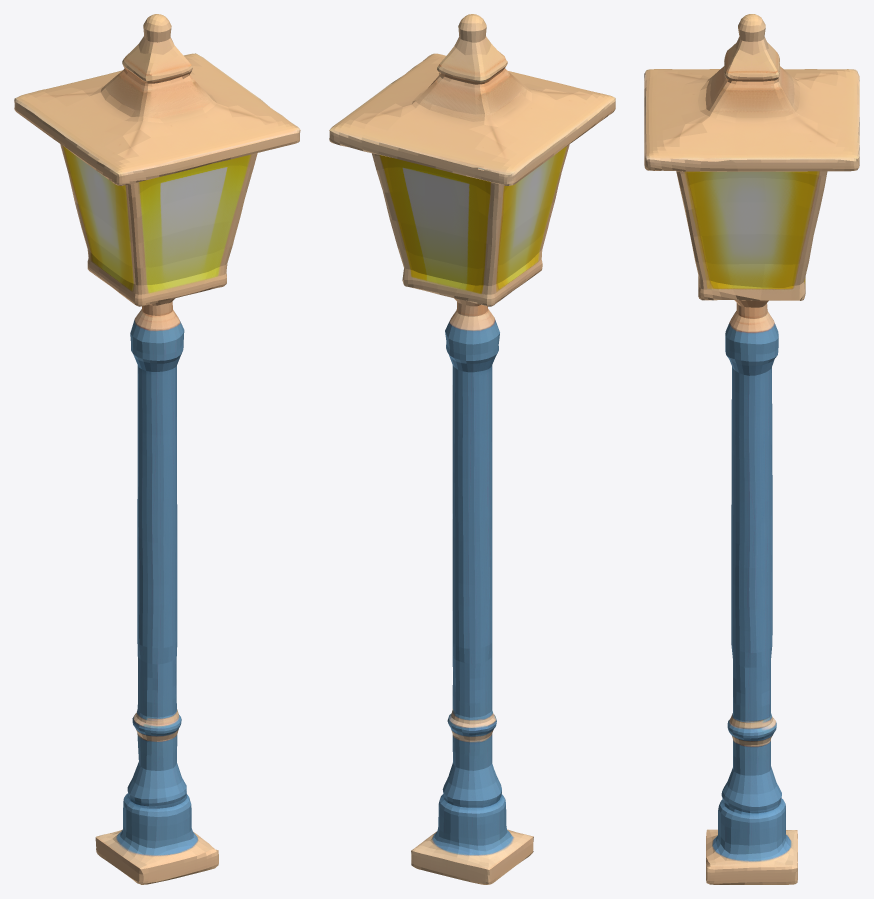
The model's file is Meshy_AI_Stylized_low_poly_str_0519051338_texture.obj.
3 renders of one model, left to right at view 1: azimuth 30°, elevation 25°; view 2: azimuth 150°, elevation 25°; view 3: azimuth 270°, elevation 25°, orthographic.
Visible parts, largest first — view 1: Meshy_AI_Stylized_low_poly_str_0519051338_texture; view 2: Meshy_AI_Stylized_low_poly_str_0519051338_texture; view 3: Meshy_AI_Stylized_low_poly_str_0519051338_texture.
Part boxes in pixels (x1=…): Meshy_AI_Stylized_low_poly_str_0519051338_texture: x1=14, y1=14, x2=300, y2=884; Meshy_AI_Stylized_low_poly_str_0519051338_texture: x1=329, y1=14, x2=615, y2=884; Meshy_AI_Stylized_low_poly_str_0519051338_texture: x1=644, y1=14, x2=859, y2=884.
Bounding box in the file's own units: 0.4391 × 1.92 × 0.4392.
Materials: 1 (1 with a texture image).
